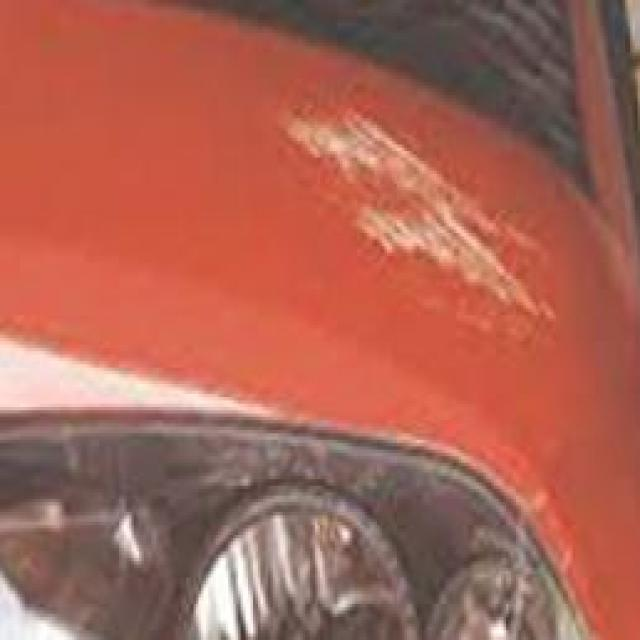scratch: (266, 76, 596, 354)
